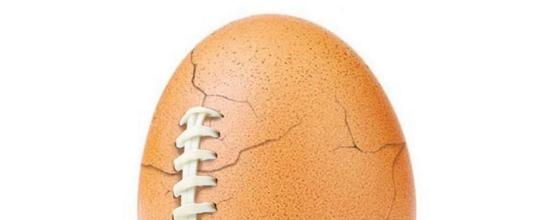egg: (136, 8, 415, 220)
